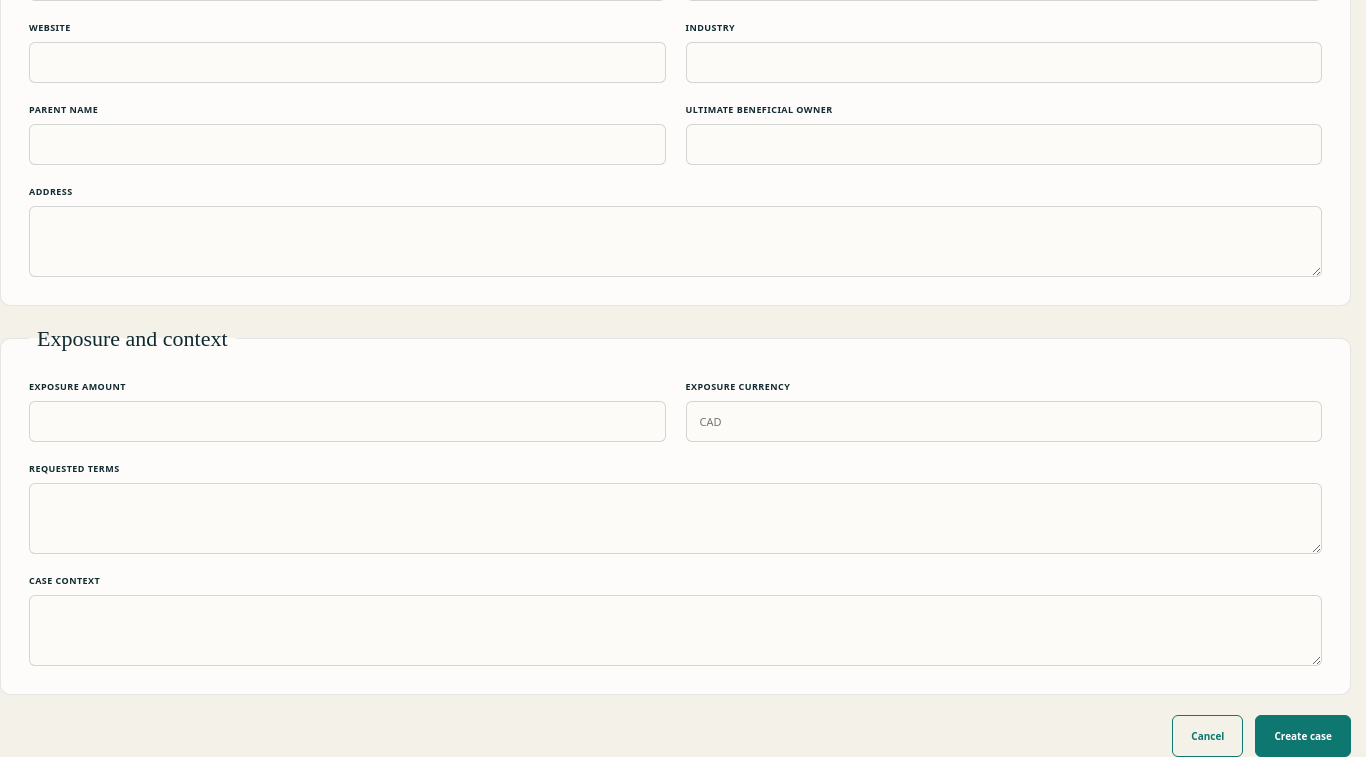
Scenario: case form › validates the paired exact exposure fields, website, and required name
(page scrolled)
Type "12.345" into the field labelled "Exposure amount". click: (347, 421)
box: 29,401 -> 666,442
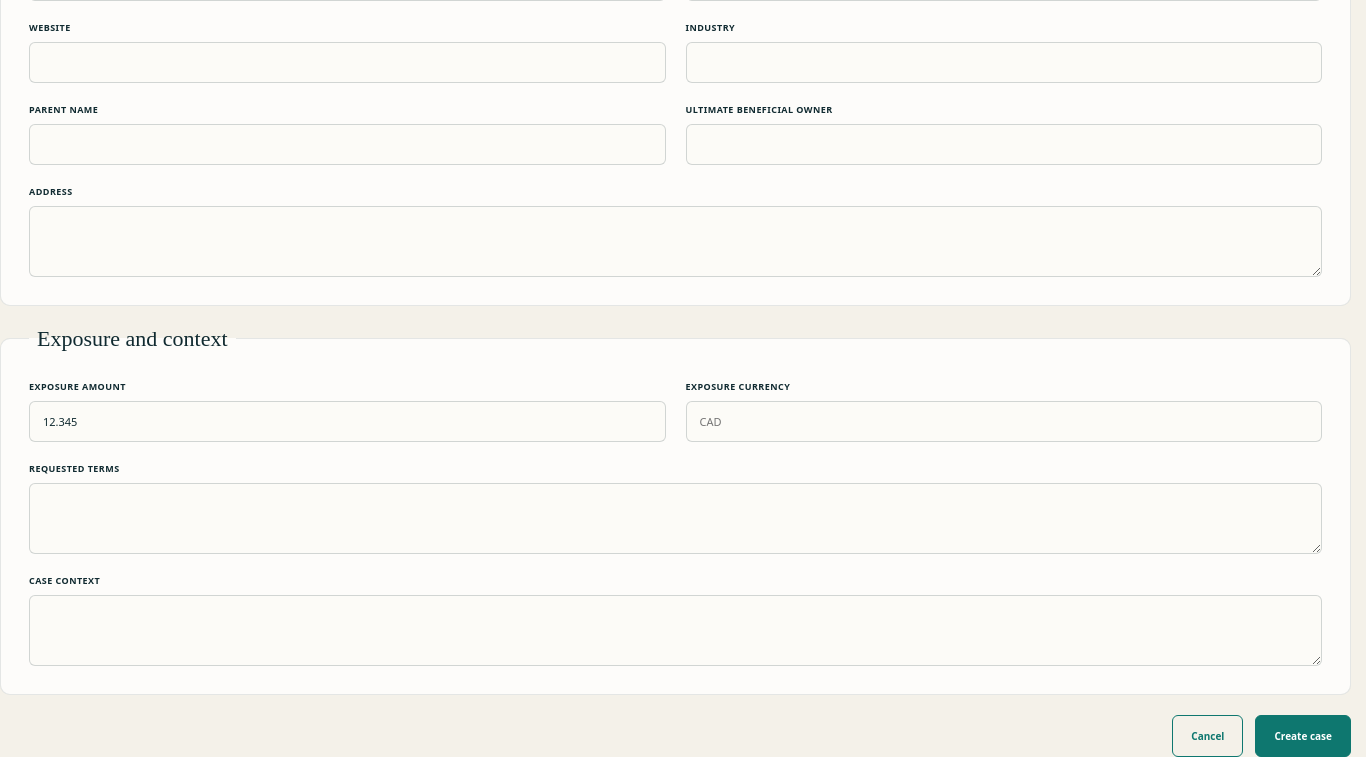
Type "example.com" into the field labelled "Website". click: (347, 62)
box: 29,42 -> 666,83
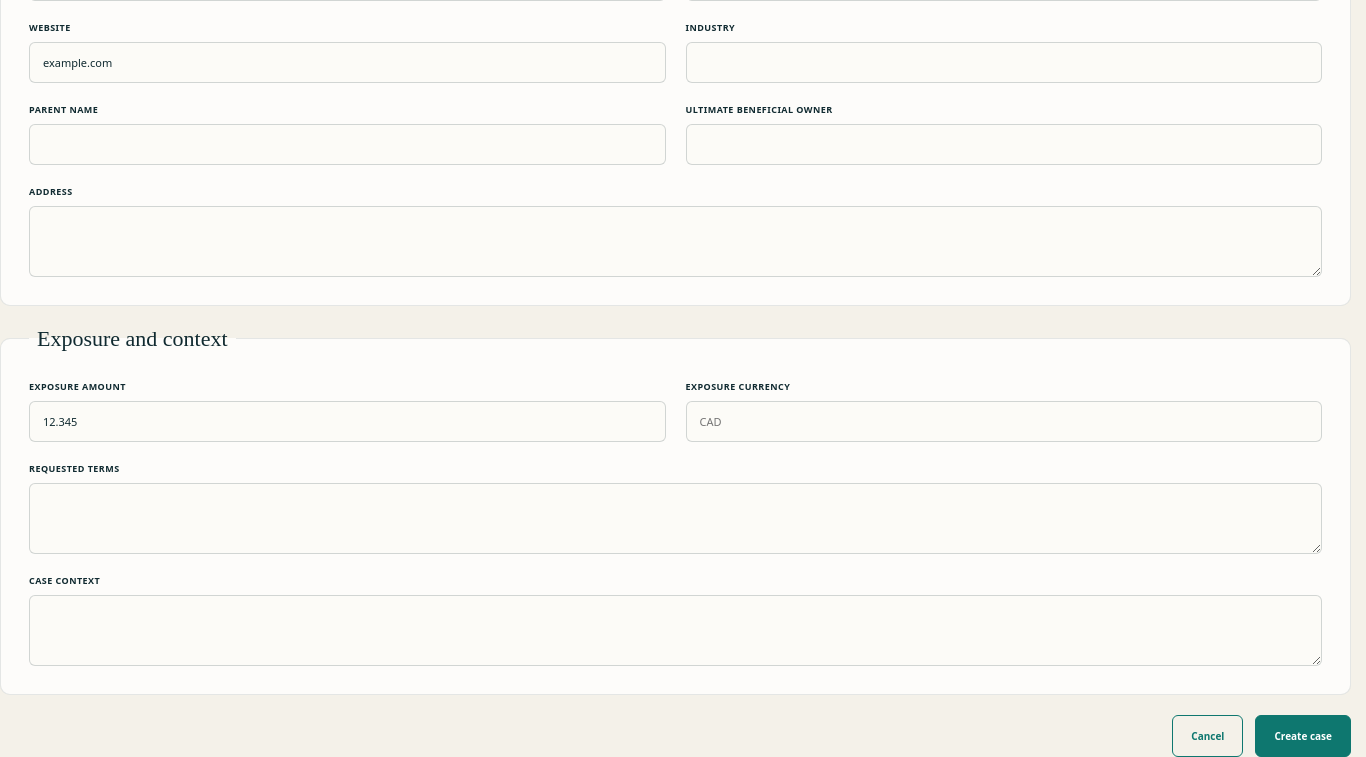
Click the button "Create case". click: click(1303, 736)
box: 1255,715 -> 1351,756
(page scrolled)
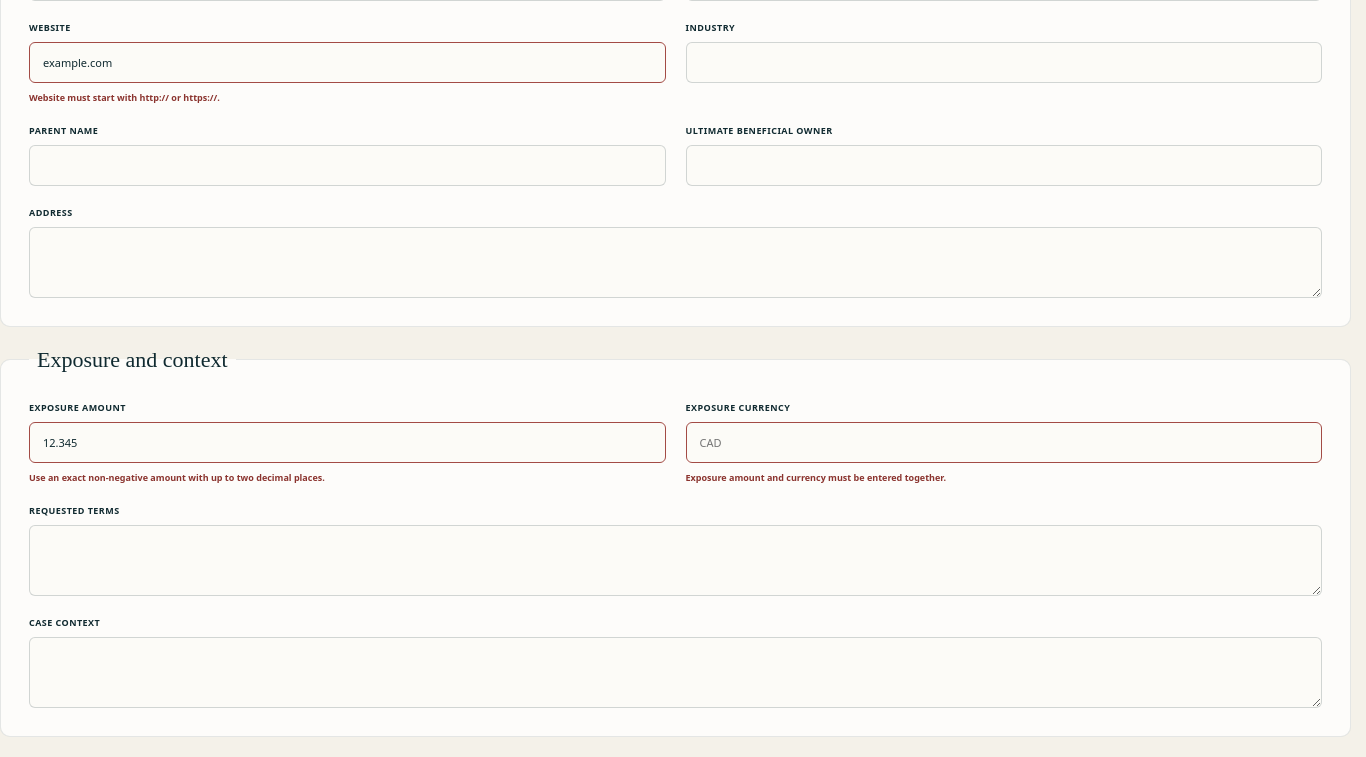
Now the text "exact non-negative amount" is shown, box 29,471 -> 325,484
Now the text "Exposure amount and currency must be entered together." is shown, box 686,471 -> 946,484
Now the text "Website must start with http:// or https://." is shown, box 29,91 -> 220,104
